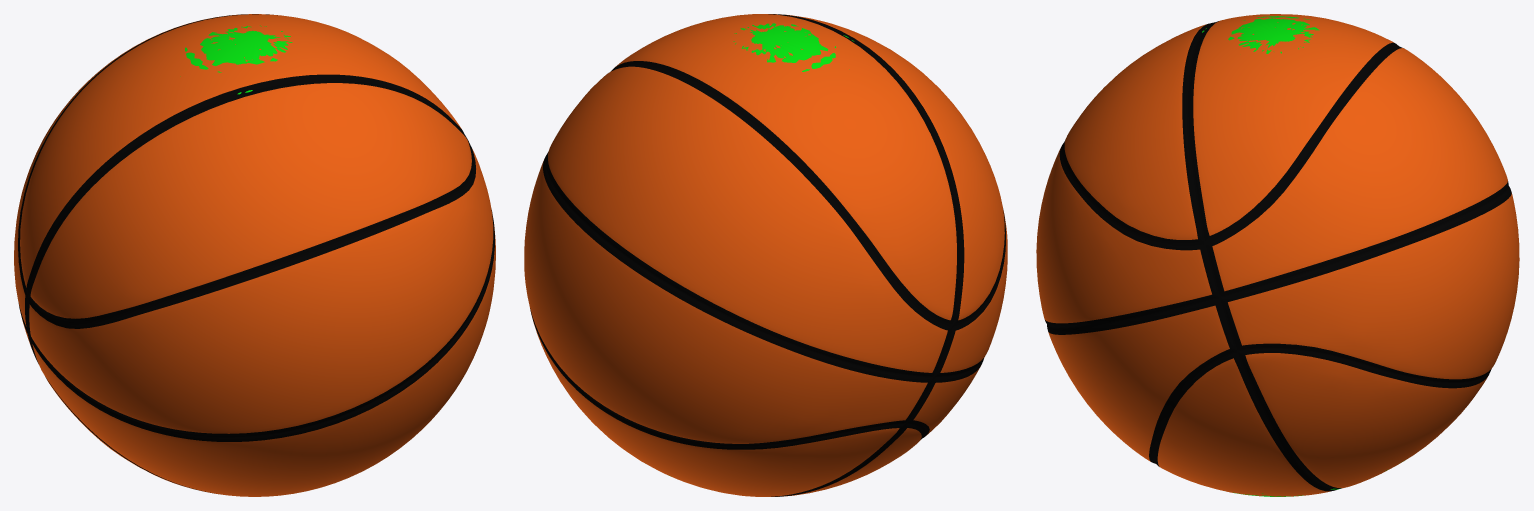
File: basket ball.fbx
3 views of the same model, side by side, from view 1: azimuth 30°, elevation 25°; view 2: azimuth 150°, elevation 25°; view 3: azimuth 270°, elevation 25° (orthographic).
Parts seen in each view (by area): view 1: Basket Ball, Basket ball Glow; view 2: Basket Ball, Basket ball Glow; view 3: Basket Ball, Basket ball Glow.
Part boxes in pixels (bbox=[...]): Basket Ball: bbox=[14, 14, 495, 496]; Basket ball Glow: bbox=[180, 25, 292, 94]; Basket Ball: bbox=[524, 14, 1007, 496]; Basket ball Glow: bbox=[733, 23, 854, 71]; Basket Ball: bbox=[1036, 14, 1519, 496]; Basket ball Glow: bbox=[1202, 16, 1401, 496].
Bounding box in the file's own units: 8.83 × 8.83 × 8.78.
